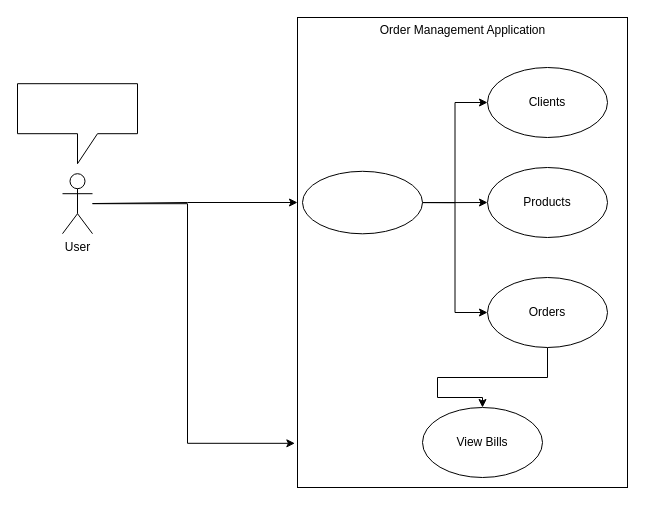
This 645x513 diagram has some shape labels left out. The centre of each missing label's shape, as x and y in pixels:
Administrator of orders: (77,123)
CRUD operations: (362,202)
